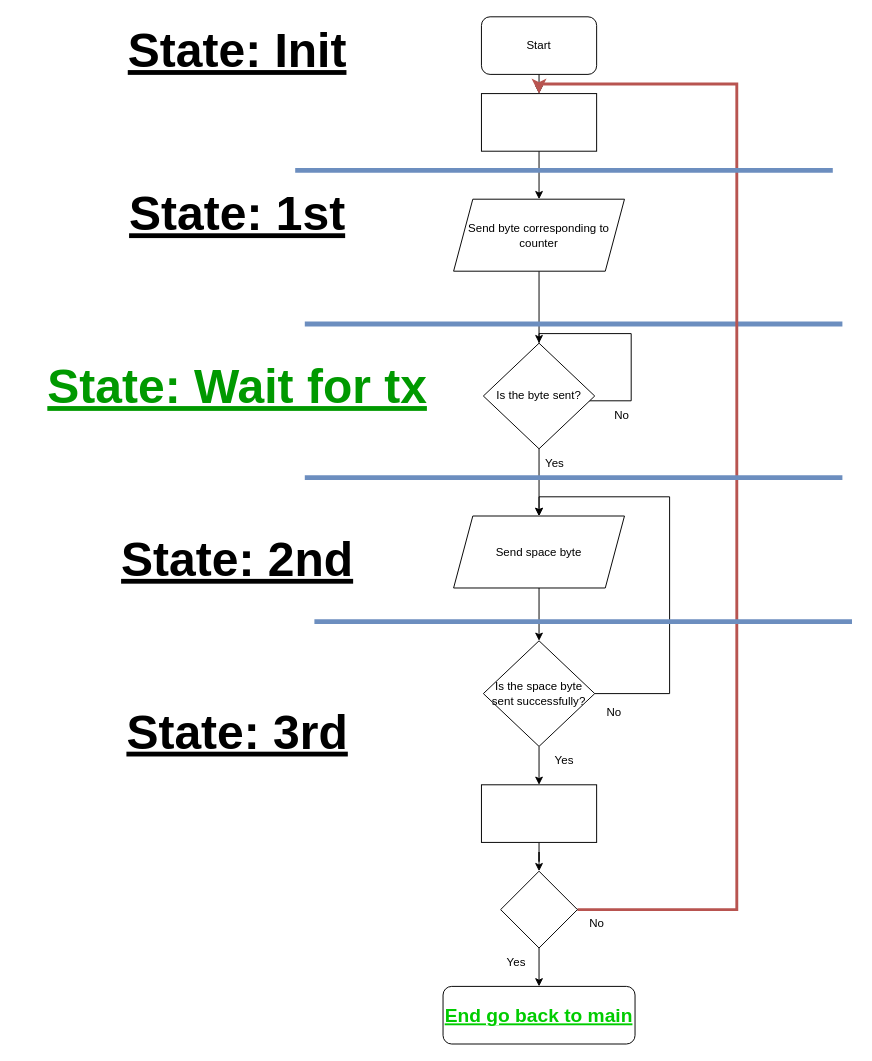
Image size: 872x1061. Some labels were removed from this diagram. Here are the shapes that lost their labels. From the top down, the box of each, then its label:
(480, 93, 597, 151): Set counter to 7
(480, 784, 597, 842): Subtract 1 from counter
(500, 870, 577, 948): Is counter 0?
